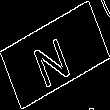N_NW: (32, 24, 78, 86)
